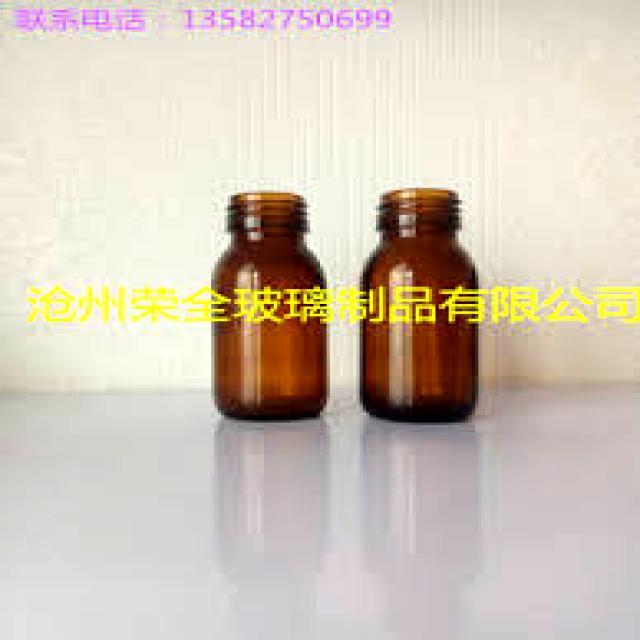Glass: (352, 188, 486, 427), (204, 186, 336, 428)
